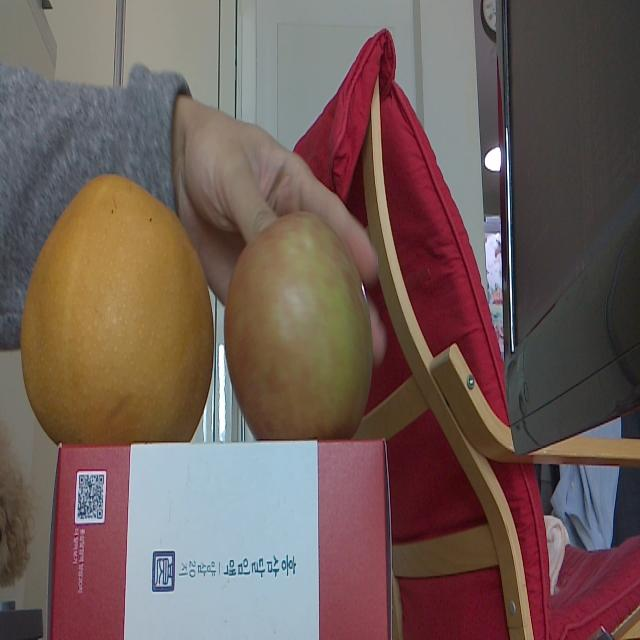apple: (224, 209, 376, 443)
pear: (21, 170, 215, 450)
